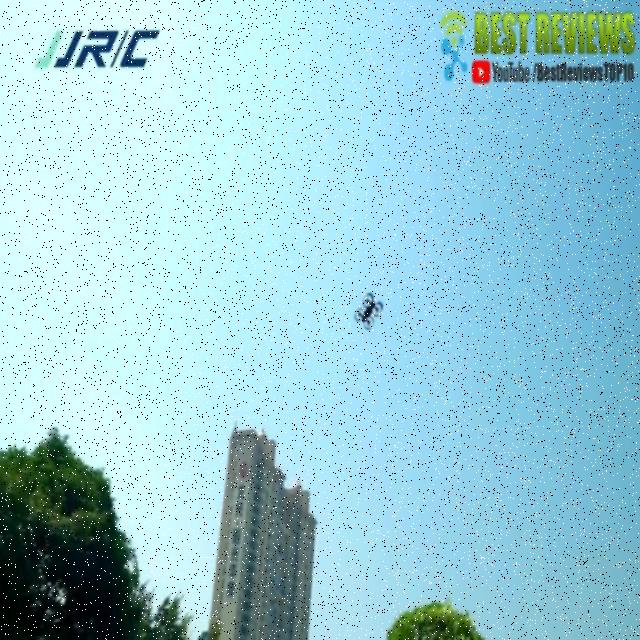UAV: (354, 292, 384, 330)
